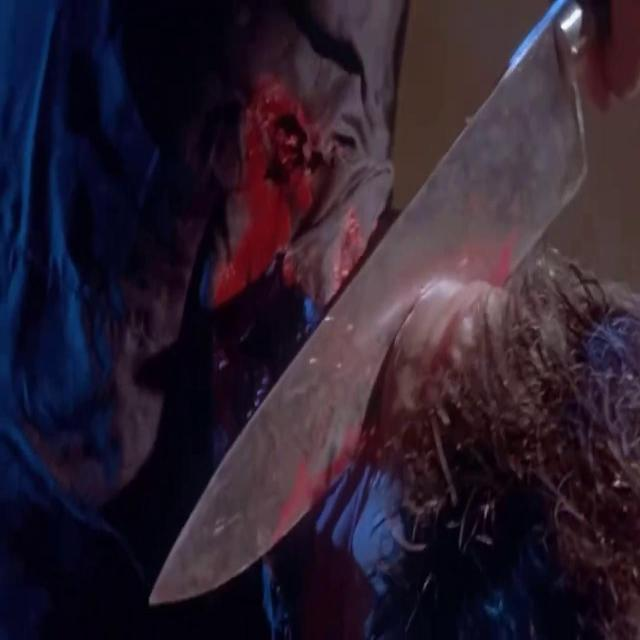flood: (202, 86, 356, 324)
